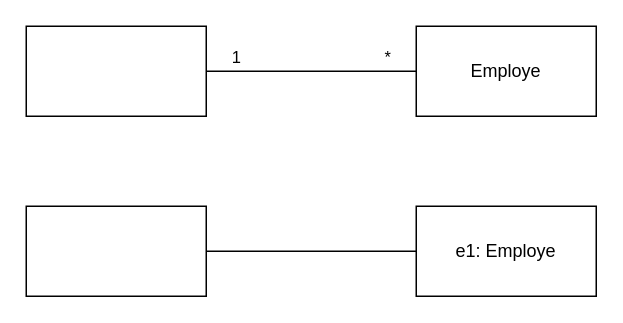
The diagram is 623 pixels wide and 323 high, and some of its shapes have lost their labels. The box of each missing label's shape, as (x1, y1, x2, y2) in pixels:
d1: Dept: (25, 205, 206, 296)
Dept: (25, 25, 206, 116)
